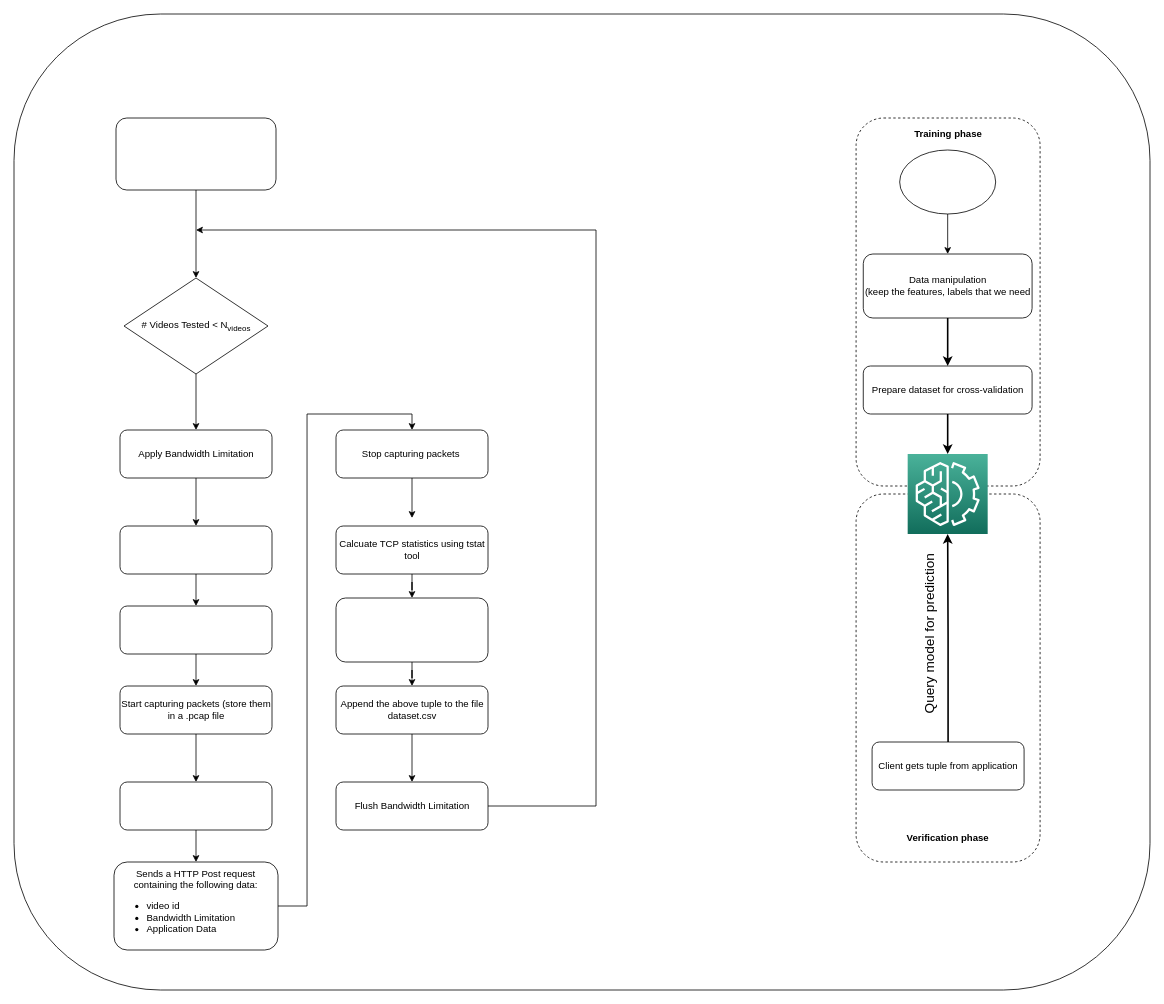
This 1164x1004 diagram has some shape labels left out. Here are the shapes that lost their labels. From the top down, the centre of each, then its label:
At point (195, 153): "Define: Number of videos N videos Bandwidth Limitations N bw".
At point (947, 181): "Start by providing dataset.csv".
At point (195, 549): "Start Video playing".
At point (195, 629): "Wait for 20 seconds".
At point (411, 629): "Create a tuple combining: Video Id tstat statistics Application Data".
At point (195, 805): "Client (iframe) waits for 1 min".
